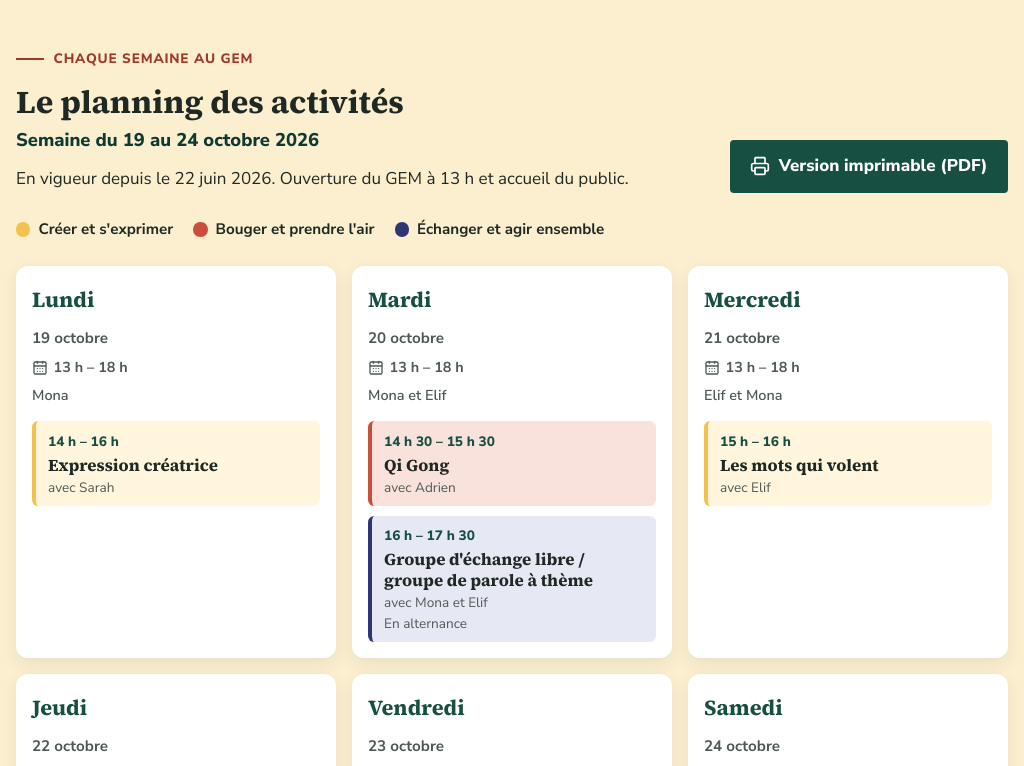
opens a window with everything about an activity, and closes it
Click the button "14 h 30 – 15 h 30 Qi Gong avec Adrien": (439, 441) [372,421,656,506]
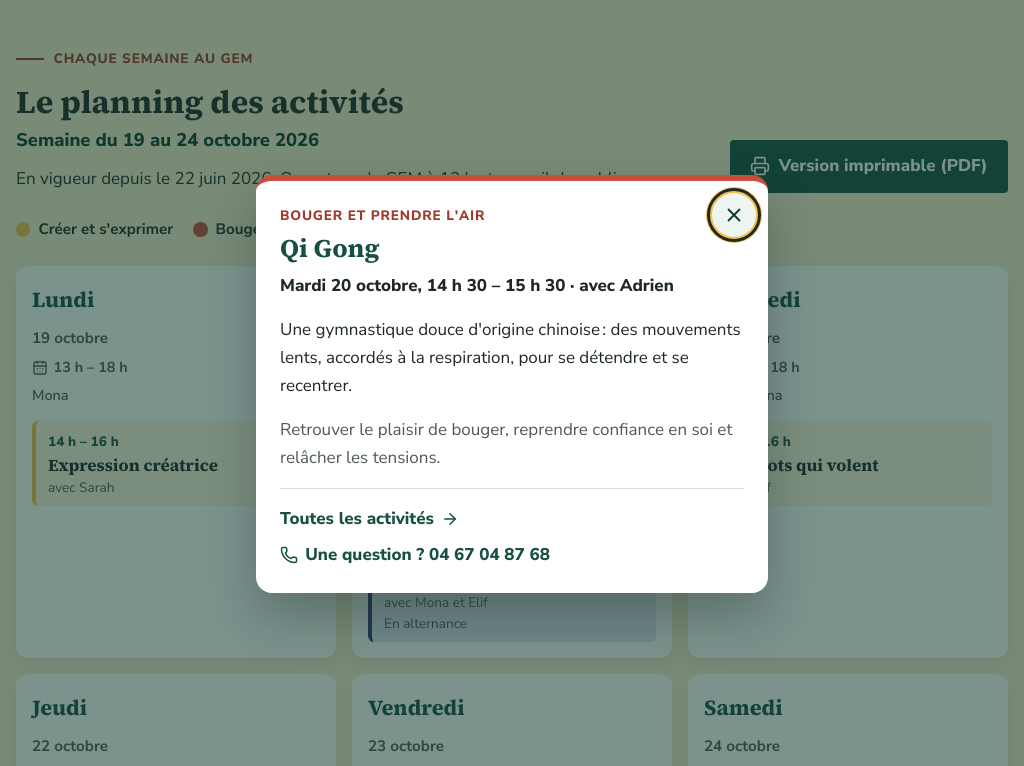
Expected: the dialog "Qi Gong" shows "Mardi 20 octobre, 14 h 30 – 15 h 30", [256,175,768,593]
Expected: the dialog "Qi Gong" shows "avec Adrien", [256,175,768,593]
Expected: the dialog "Qi Gong" shows "Bouger et prendre l'air", [280,206,485,225]
Click the button named "Fermer": (734, 215) [712,193,756,237]
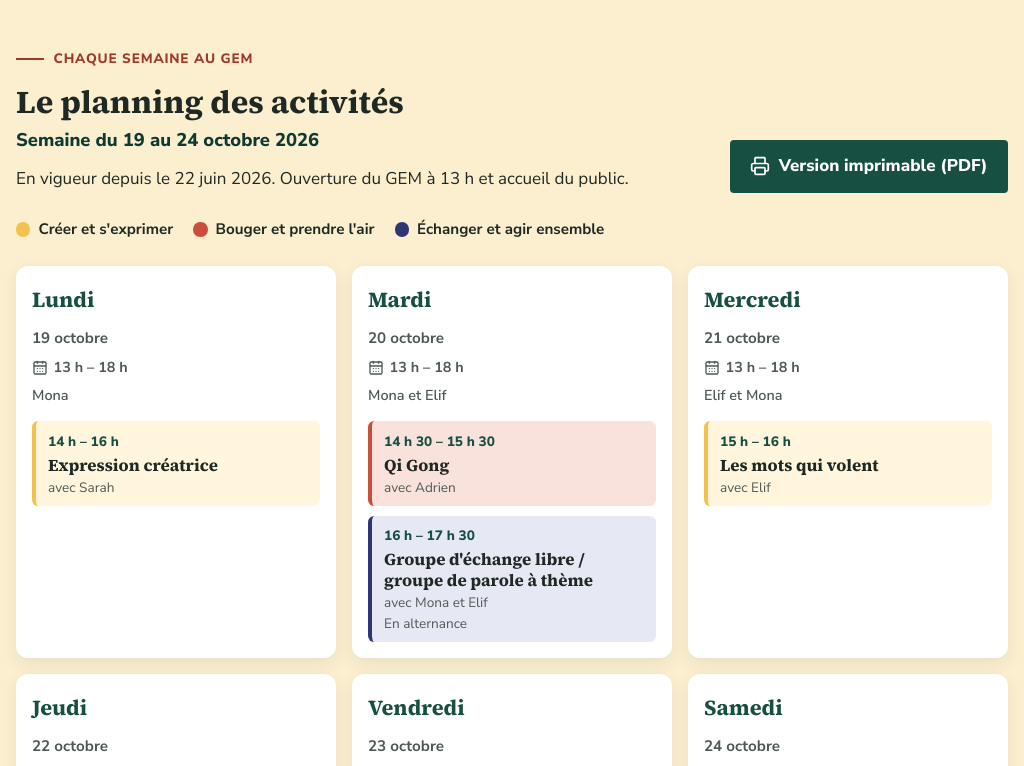
Expected: the dialog is gone
